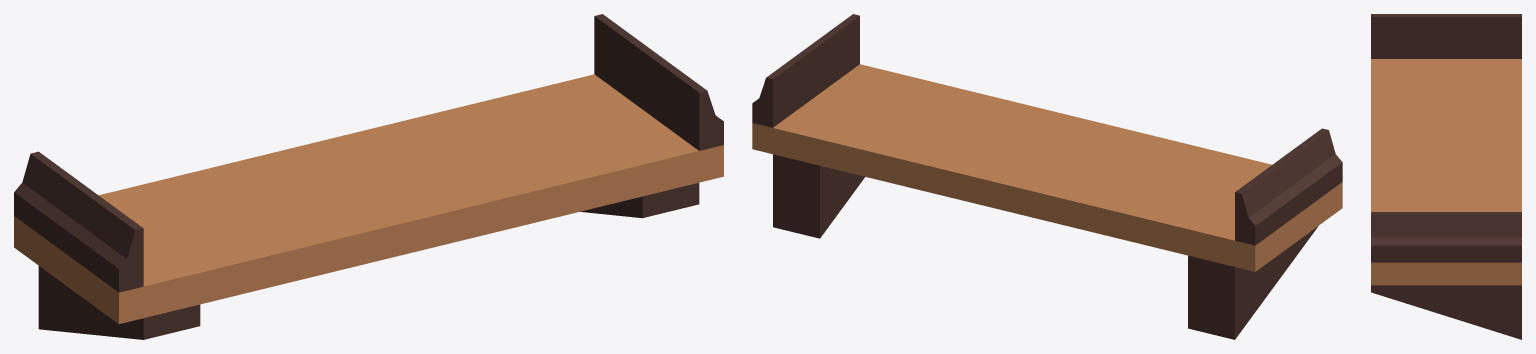
Rendered from Prop_KitchenShelf_05.fbx.
3 views of the same model, side by side, from view 1: azimuth 30°, elevation 25°; view 2: azimuth 150°, elevation 25°; view 3: azimuth 270°, elevation 25° (orthographic). The views are drawn at different scales.
Parts seen in each view (by area): view 1: Prop_KitchenShelf_05; view 2: Prop_KitchenShelf_05; view 3: Prop_KitchenShelf_05.
Part boxes in pixels (box(x1,y1,x2,y2)): Prop_KitchenShelf_05: box(14, 14, 723, 339); Prop_KitchenShelf_05: box(752, 14, 1342, 339); Prop_KitchenShelf_05: box(1371, 14, 1521, 339).
Size of the model in its own units: 100 by 28.08 by 30.
